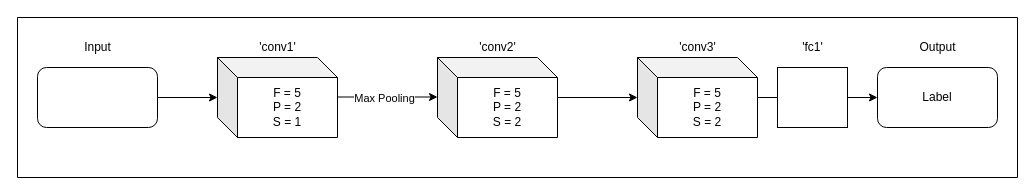
Image size: 1035x195. Some labels were removed from this diagram. The centre of each missing label's shape, as x and y in pixels:
Fully connected layer: point (812, 97)
RGB Image: point (97, 97)
